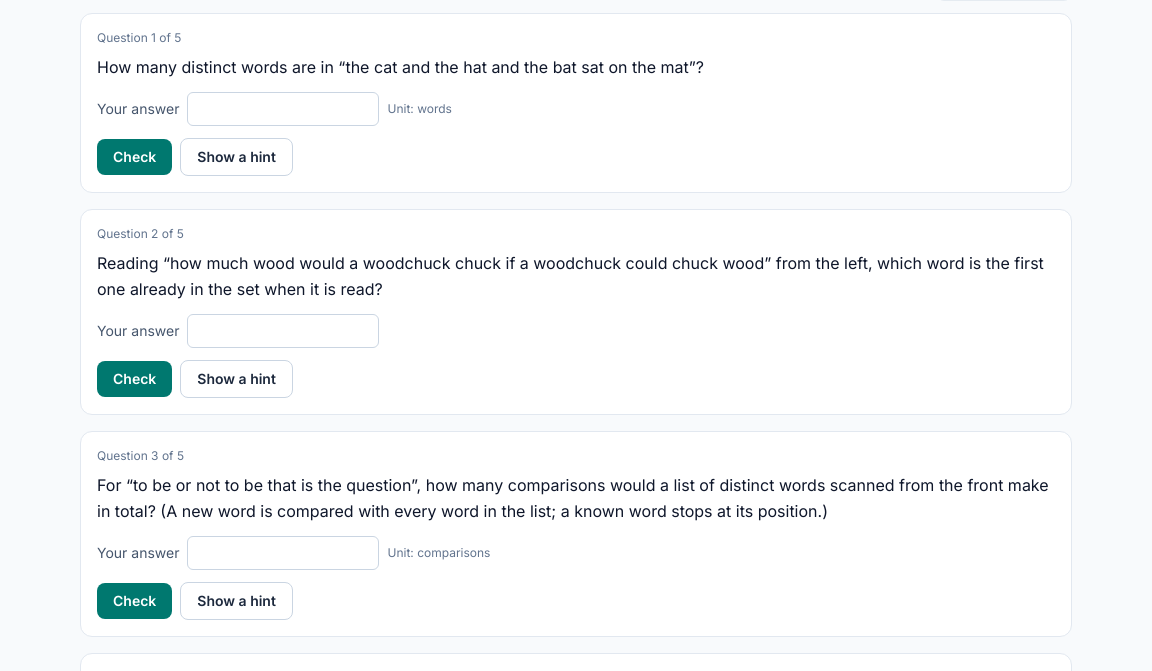
Test case: sets, maps and frequency counting lesson › checks a practice answer, wrong then right, with a hint
(page scrolled)
In the field named "answer": (284, 331) x1=188 y1=314 x2=380 y2=348, type "wood"
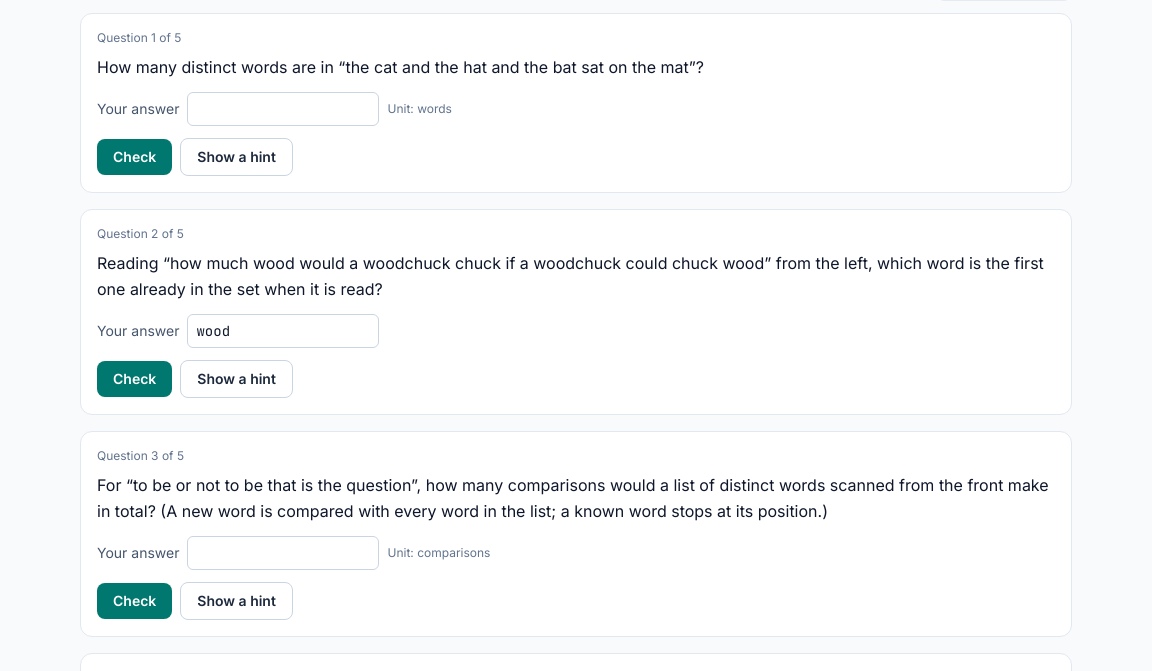
Submit the form "Your answer Check Show a hint", box x1=97 y1=314 x2=380 y2=398
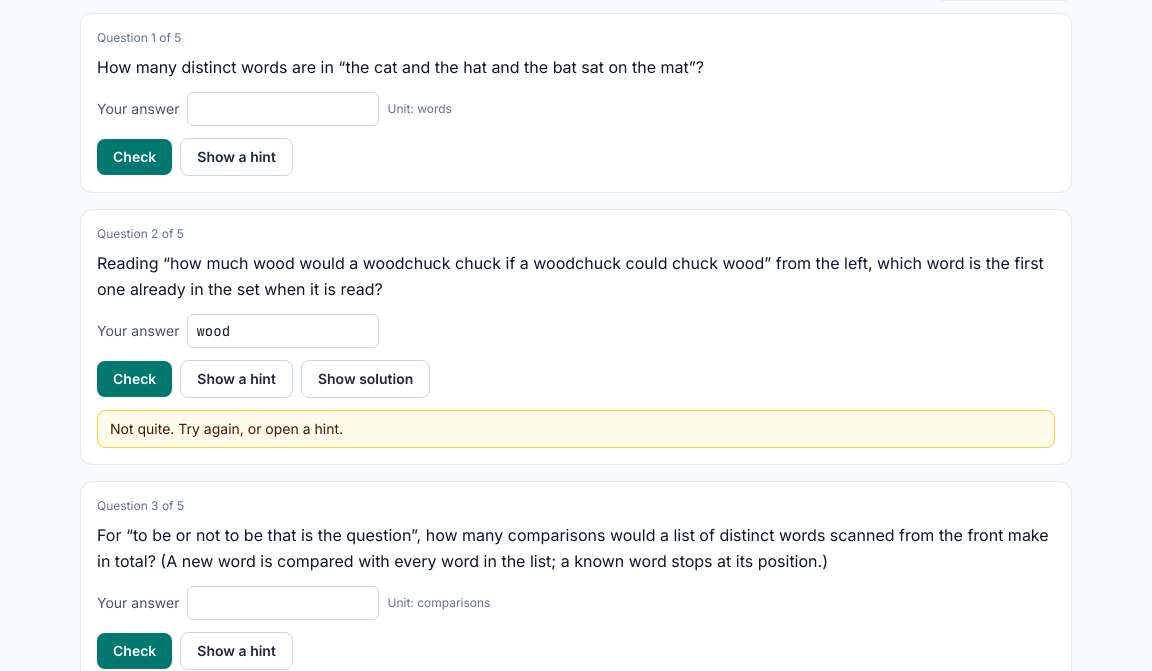
Expected: the list item that starts with "Question 2 of 5" shows "Not quite", x1=110 y1=420 x2=343 y2=437
Click the button "Show a hint" below "Question 2 of 5": (237, 379) x1=180 y1=360 x2=293 y2=398
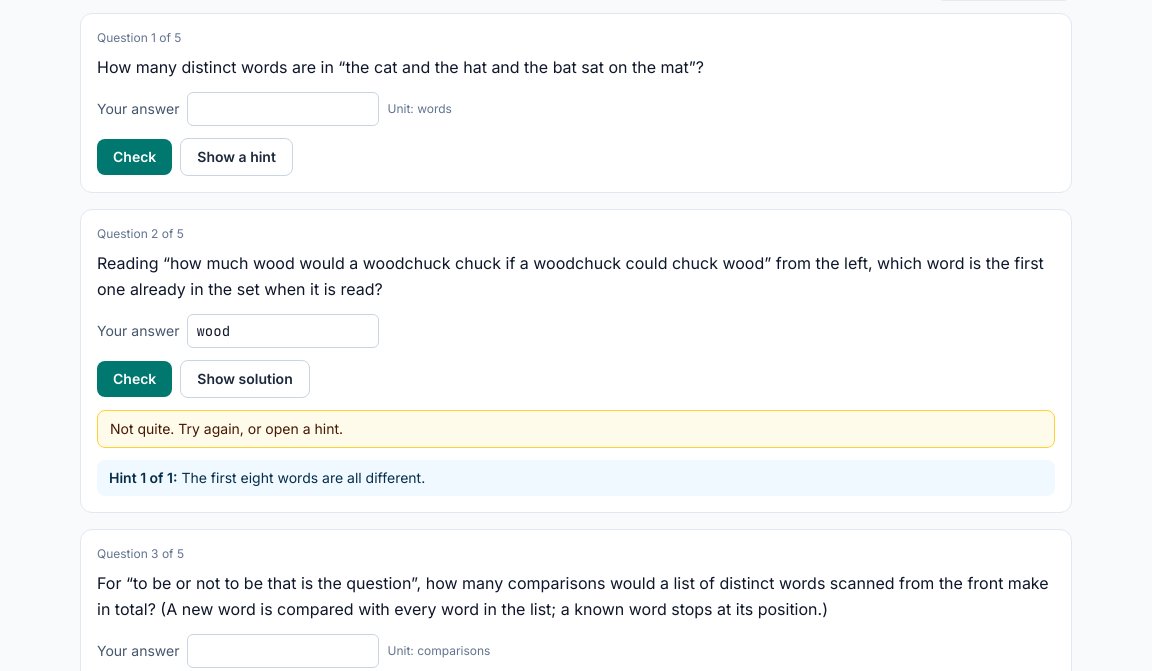
Expected: the list item that starts with "Question 2 of 5" shows "The first eight words are all different.", x1=178 y1=469 x2=425 y2=486
Replace the text in the field named "answer" with "a": (284, 331) x1=188 y1=314 x2=380 y2=348
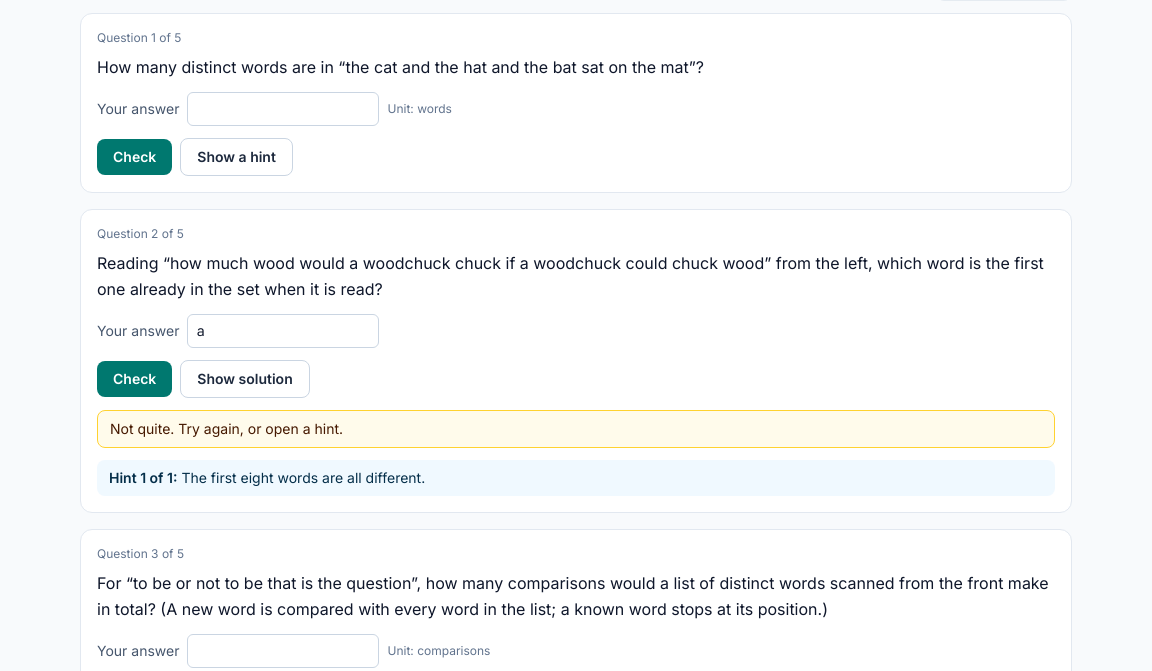
Submit the form "Your answer Check Show solution", box x1=97 y1=314 x2=380 y2=398
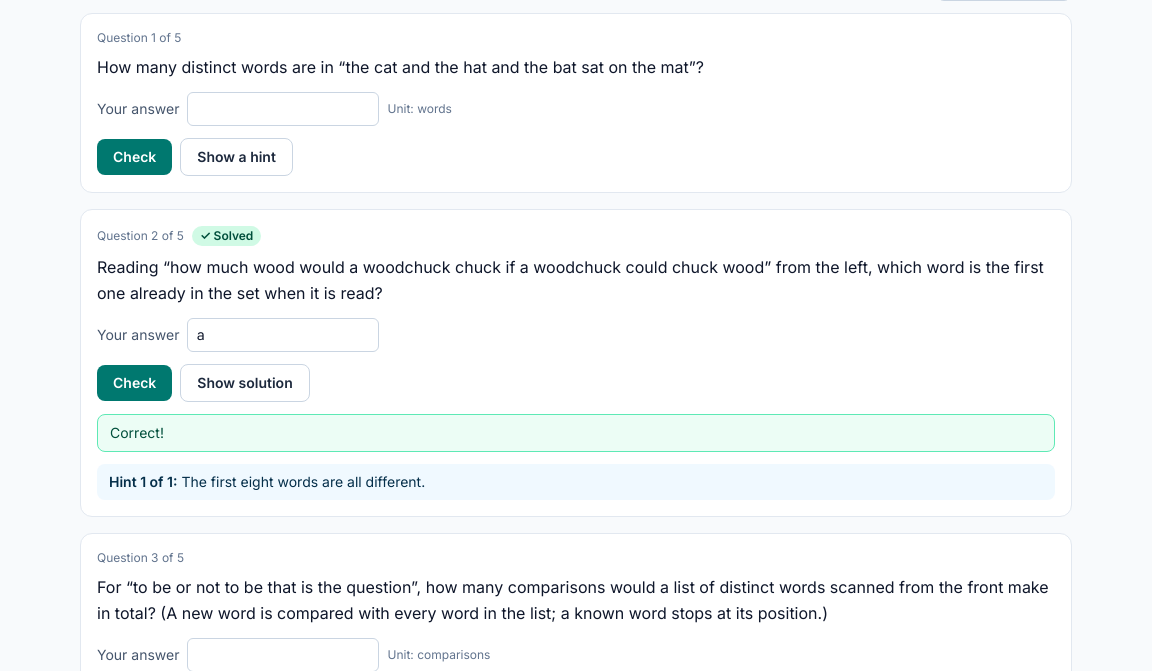
Expected: the list item that starts with "Question 2 of 5" shows "Correct!", x1=110 y1=424 x2=164 y2=441
